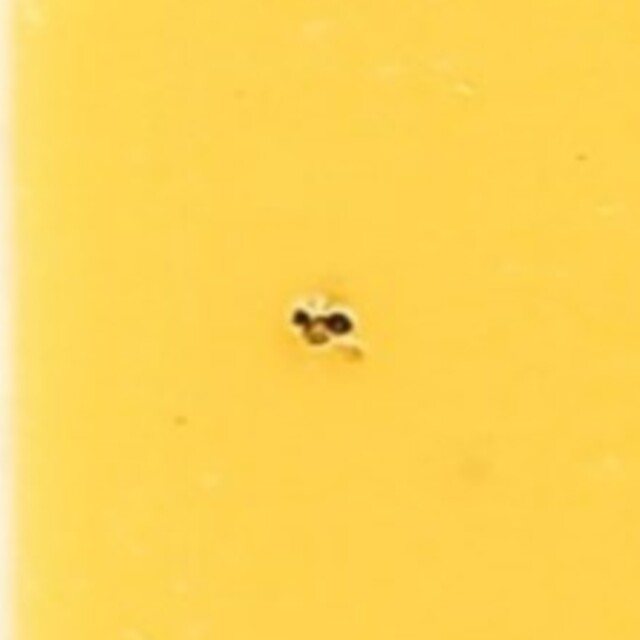Hymenoptera: (288, 291, 352, 349)
